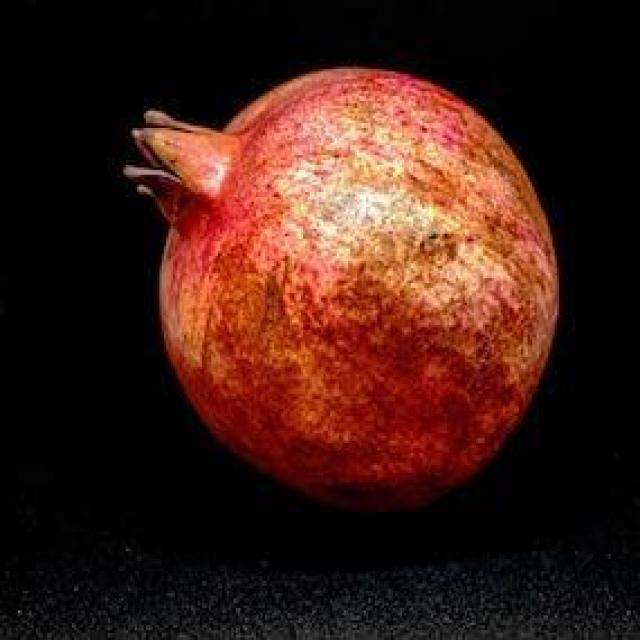Pomegranate: (124, 66, 562, 517)
